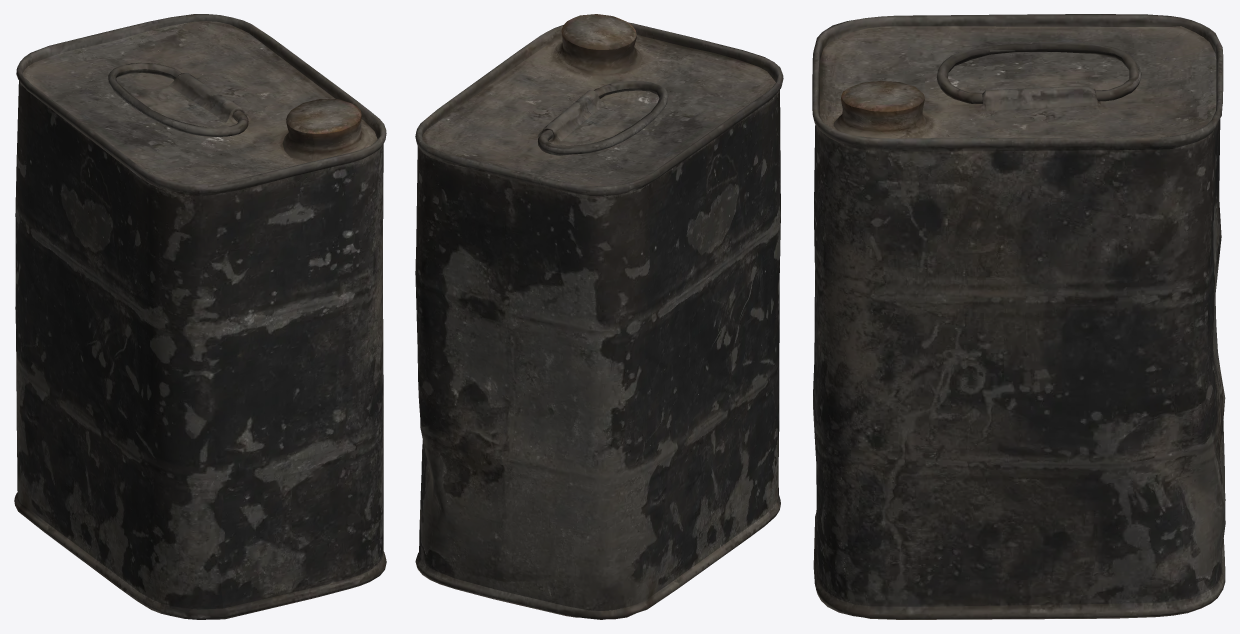
The model's file is oil_tin.glb.
3 views of the same model, side by side, from view 1: azimuth 30°, elevation 25°; view 2: azimuth 150°, elevation 25°; view 3: azimuth 270°, elevation 25° (orthographic). The views are drawn at different scales.
Visible parts, largest first — view 1: oil_tin; view 2: oil_tin; view 3: oil_tin.
Boxes of the visible parts, left/top/right/bottom form: oil_tin: left=14, top=14, right=386, bottom=619; oil_tin: left=415, top=14, right=783, bottom=619; oil_tin: left=812, top=14, right=1225, bottom=619.
Size of the model in its own units: 0.1147 by 0.2054 by 0.1536.
1 material, 1 textured.
